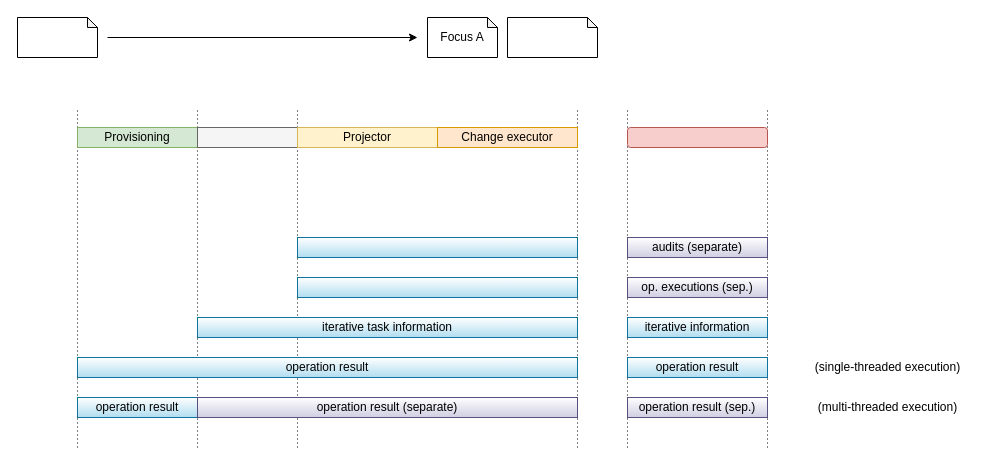
Some shapes in this 985 by 466 pixel diagram are drawn without their labels. The centre of each missing label's shape, as x and y in pixels:
audit: pixel 437 247
Embedded clockwork: pixel 697 137
operation execution: pixel 437 287
Resource object A 0: pixel 57 37
Resource objects A 0 ... A n: pixel 552 37
Sync. service: pixel 247 137
